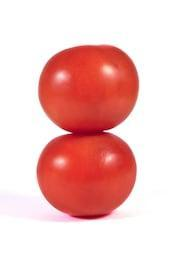tomato: (36, 40, 140, 133), (37, 131, 138, 218)
